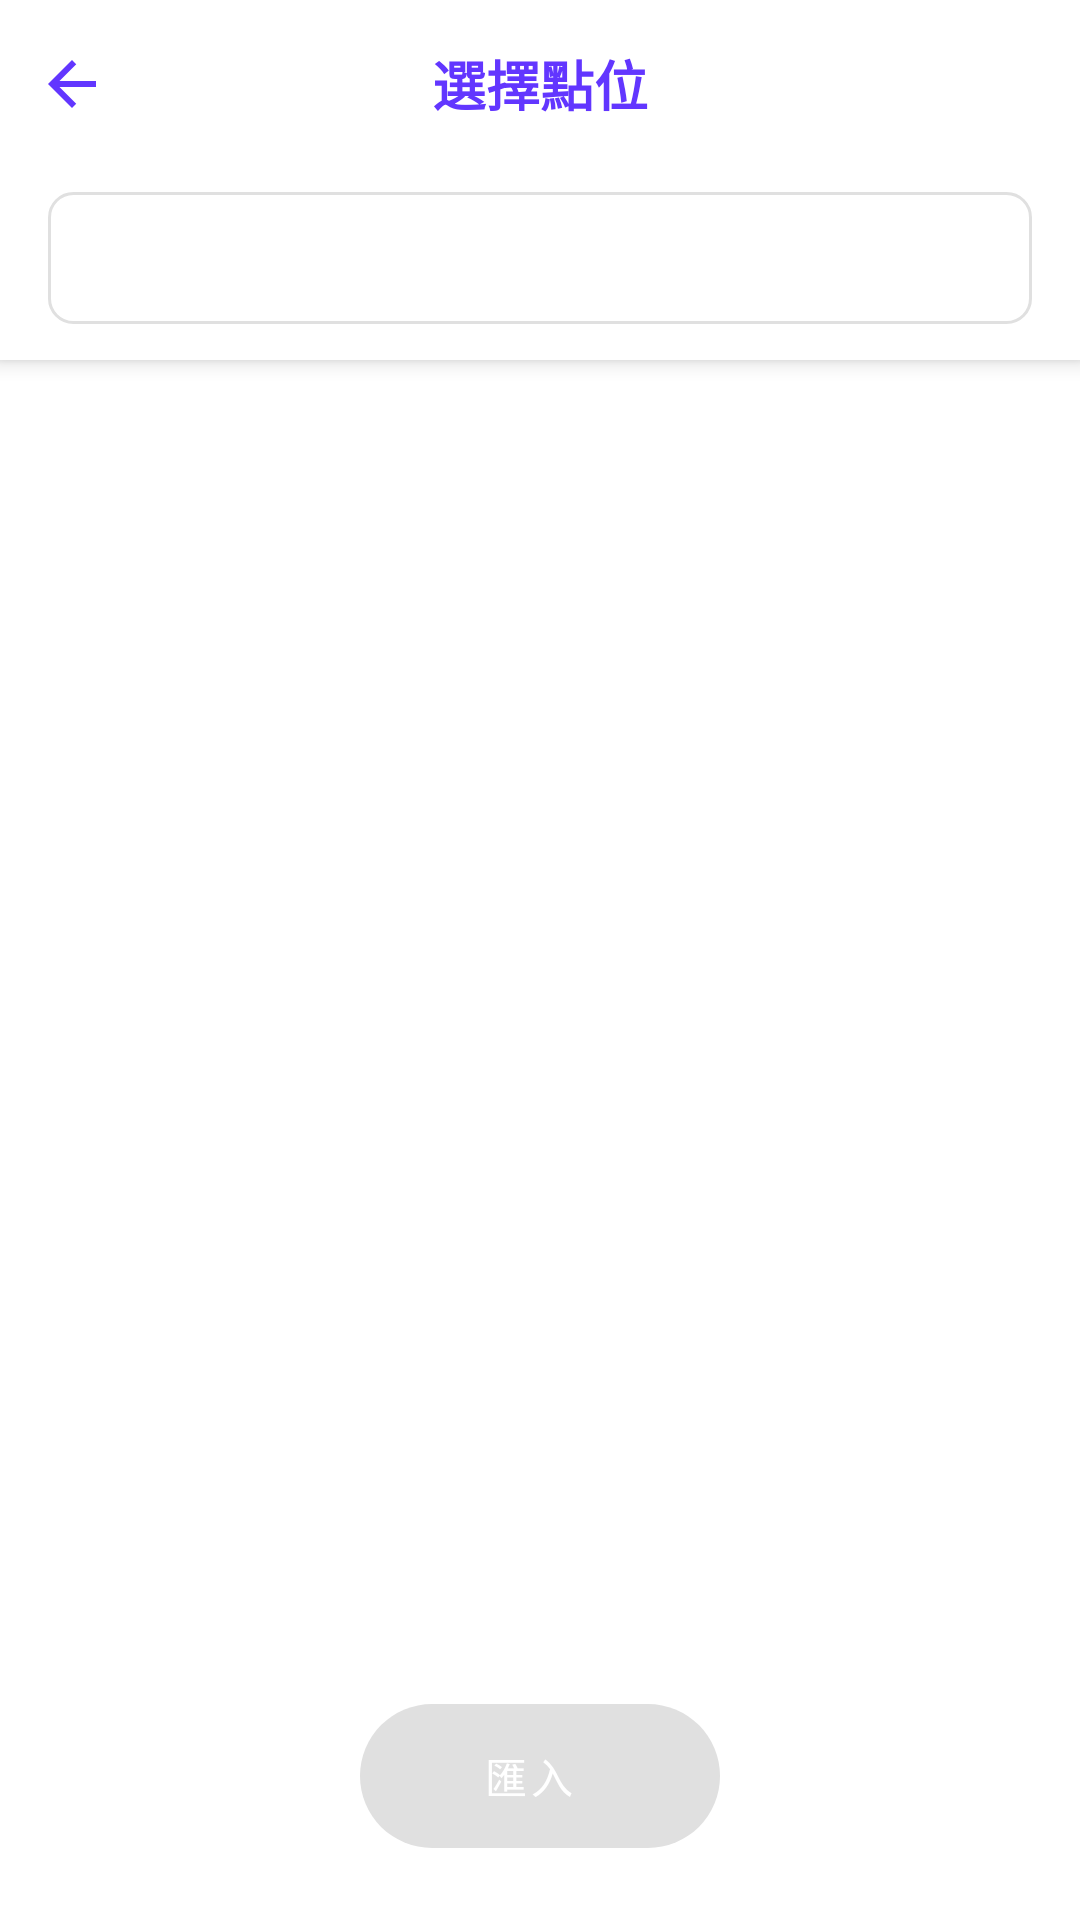

Named icons in this screenshot (1080×1920) and their centers, [x,y]:
返回: [72,84]
